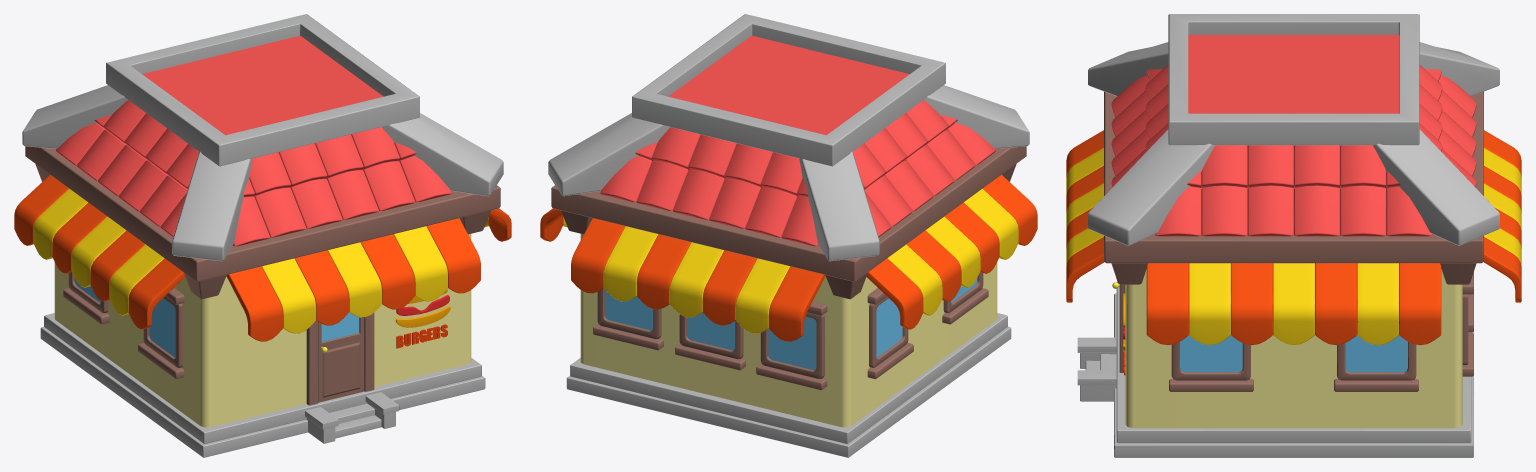
The model's file is Store_2_Burger_Shop_1.glb.
3 renders of one model, left to right at view 1: azimuth 30°, elevation 25°; view 2: azimuth 150°, elevation 25°; view 3: azimuth 270°, elevation 25°, orthographic. The views are drawn at different scales.
Parts seen in each view (by area): view 1: Store_2_Burger_Shop_1; view 2: Store_2_Burger_Shop_1; view 3: Store_2_Burger_Shop_1.
Boxes of the visible parts, x1,y1,x2,y2 form: Store_2_Burger_Shop_1: (14, 14, 511, 457); Store_2_Burger_Shop_1: (540, 14, 1037, 457); Store_2_Burger_Shop_1: (1066, 14, 1521, 457).
Bounding box in the file's own units: 9.34 × 6.98 × 9.14.
Materials: 1 (1 with a texture image).
